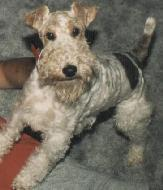wire-haired_fox_terrier: (1, 4, 157, 189)
